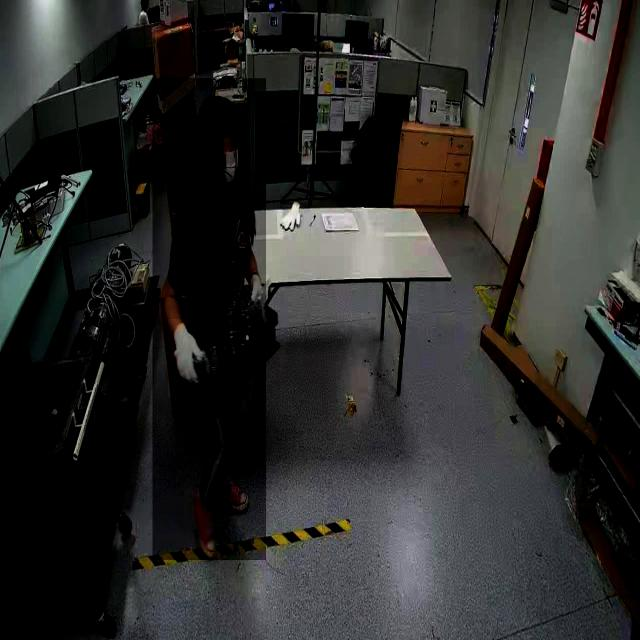face_mask: (220, 138, 242, 186)
hand_glove: (168, 319, 205, 397), (247, 275, 269, 317)
head_nohelmet: (194, 91, 240, 129)
person: (152, 78, 266, 561)
shoes: (215, 467, 251, 520)
